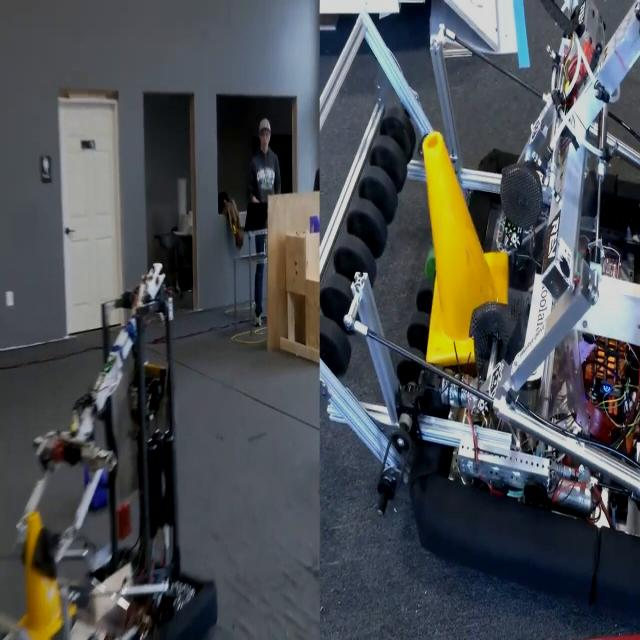frc_cone: (414, 131, 514, 365), (16, 514, 66, 640)
frc_cube: (308, 204, 324, 244)
